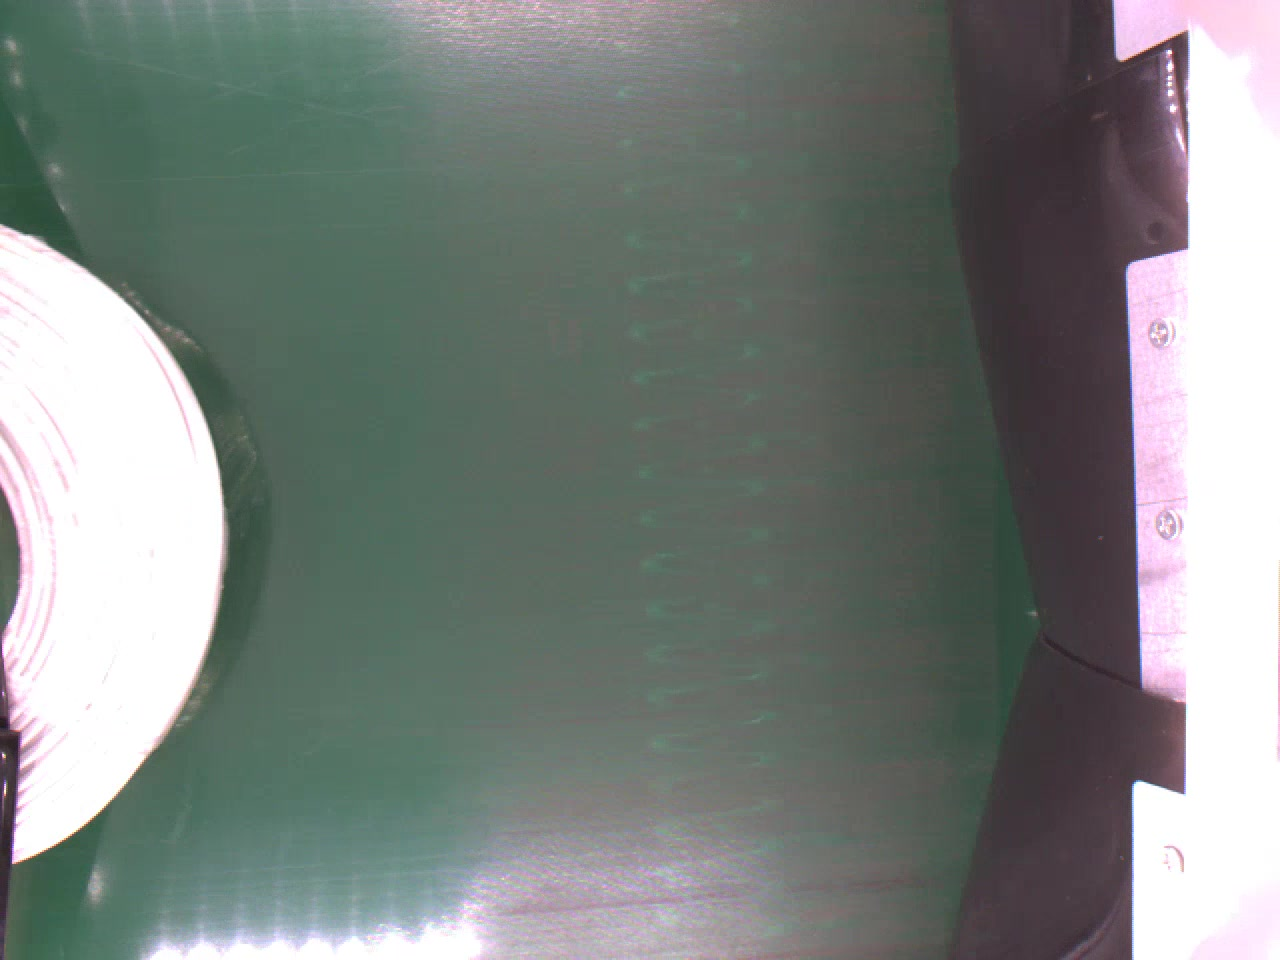white: (0, 219, 233, 865)
